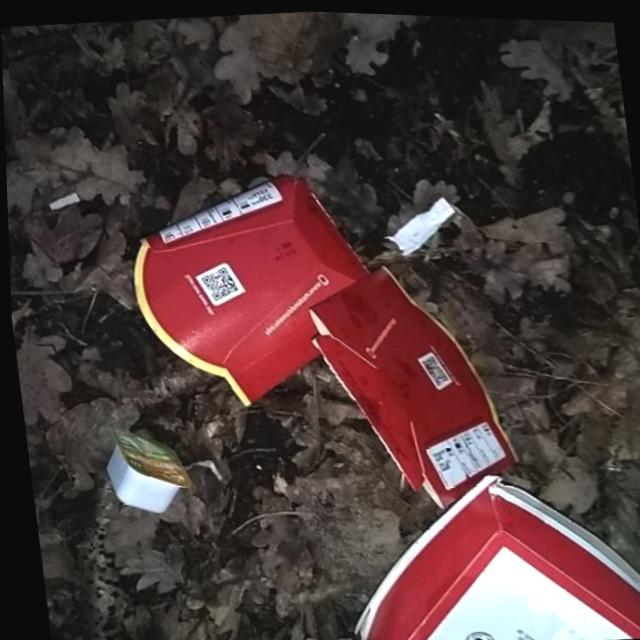Paper: (112, 157, 383, 419), (294, 246, 523, 520), (322, 445, 640, 640)
